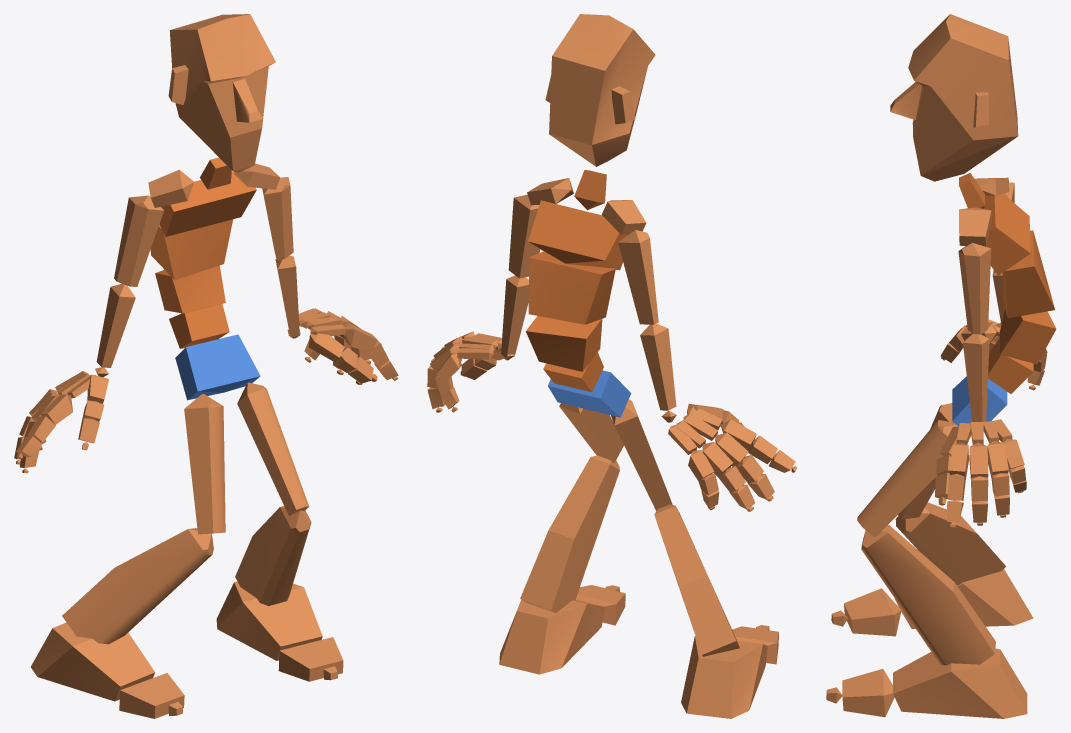
The picture shows the model from 3 angles, left to right: view 1: azimuth 30°, elevation 25°; view 2: azimuth 150°, elevation 25°; view 3: azimuth 270°, elevation 25°; orthographic projection. The views are drawn at different scales.
Visible parts, largest first — view 1: BOPED_Head, BOPED_R_leg, BOPED_R_foot, BOPED_R_foot01, BOPED_L_leg, BOPED_R_legup, BOPED_L_legup, Bone01, Bone05, Bone04, BOPED_R_arm_upper, Bone03 (+11 smaller); view 2: BOPED_Head, BOPED_L_leg, BOPED_R_foot01, BOPED_R_foot, BOPED_R_leg, Bone04, Bone05, Bone03, BOPED_R_arm_upper, BOPED_R_legup, Bone01, BOPED_R_arm_fore (+11 smaller); view 3: BOPED_Head, BOPED_L_leg, BOPED_R_foot01, BOPED_R_leg, BOPED_L_legup, BOPED_R_foot, Bone05, Bone04, BOPED_L_arm_upper, Bone03, BOPED_R_foot_toe01, BOPED_R_foot_toe04 (+14 smaller).
Boxes of the visible parts, x1,y1,x2,y2 form: BOPED_Head: [168, 14, 275, 172]; BOPED_R_leg: [62, 528, 213, 644]; BOPED_R_foot: [31, 622, 154, 701]; BOPED_R_foot01: [216, 581, 322, 660]; BOPED_L_leg: [235, 506, 311, 605]; BOPED_R_legup: [184, 394, 225, 534]; BOPED_L_legup: [237, 382, 309, 515]; Bone01: [175, 334, 260, 400]; Bone05: [159, 171, 256, 236]; Bone04: [150, 219, 232, 279]; BOPED_R_arm_upper: [114, 195, 163, 286]; Bone03: [155, 265, 225, 313]; BOPED_Head: [545, 14, 655, 166]; BOPED_L_leg: [520, 455, 619, 612]; BOPED_R_foot01: [499, 600, 605, 674]; BOPED_R_foot: [681, 636, 767, 718]; BOPED_R_leg: [654, 504, 739, 656]; Bone04: [528, 251, 615, 324]; Bone05: [528, 200, 628, 270]; Bone03: [525, 316, 602, 371]; BOPED_R_arm_upper: [618, 230, 658, 324]; BOPED_R_legup: [611, 399, 672, 510]; Bone01: [548, 370, 631, 417]; BOPED_R_arm_fore: [640, 323, 676, 410]; BOPED_Head: [890, 14, 1018, 181]; BOPED_L_leg: [861, 525, 995, 665]; BOPED_R_foot01: [893, 648, 1027, 718]; BOPED_R_leg: [895, 502, 1005, 584]; BOPED_L_legup: [857, 420, 957, 536]; BOPED_R_foot: [894, 569, 1033, 628]; Bone05: [984, 194, 1030, 275]; Bone04: [1002, 230, 1054, 318]; BOPED_L_arm_upper: [958, 243, 991, 334]; Bone03: [999, 309, 1056, 364]; BOPED_R_foot_toe01: [844, 588, 901, 636]; BOPED_R_foot_toe04: [842, 669, 894, 717].
Bounding box in the file's own units: 109 × 178 × 56.5.
